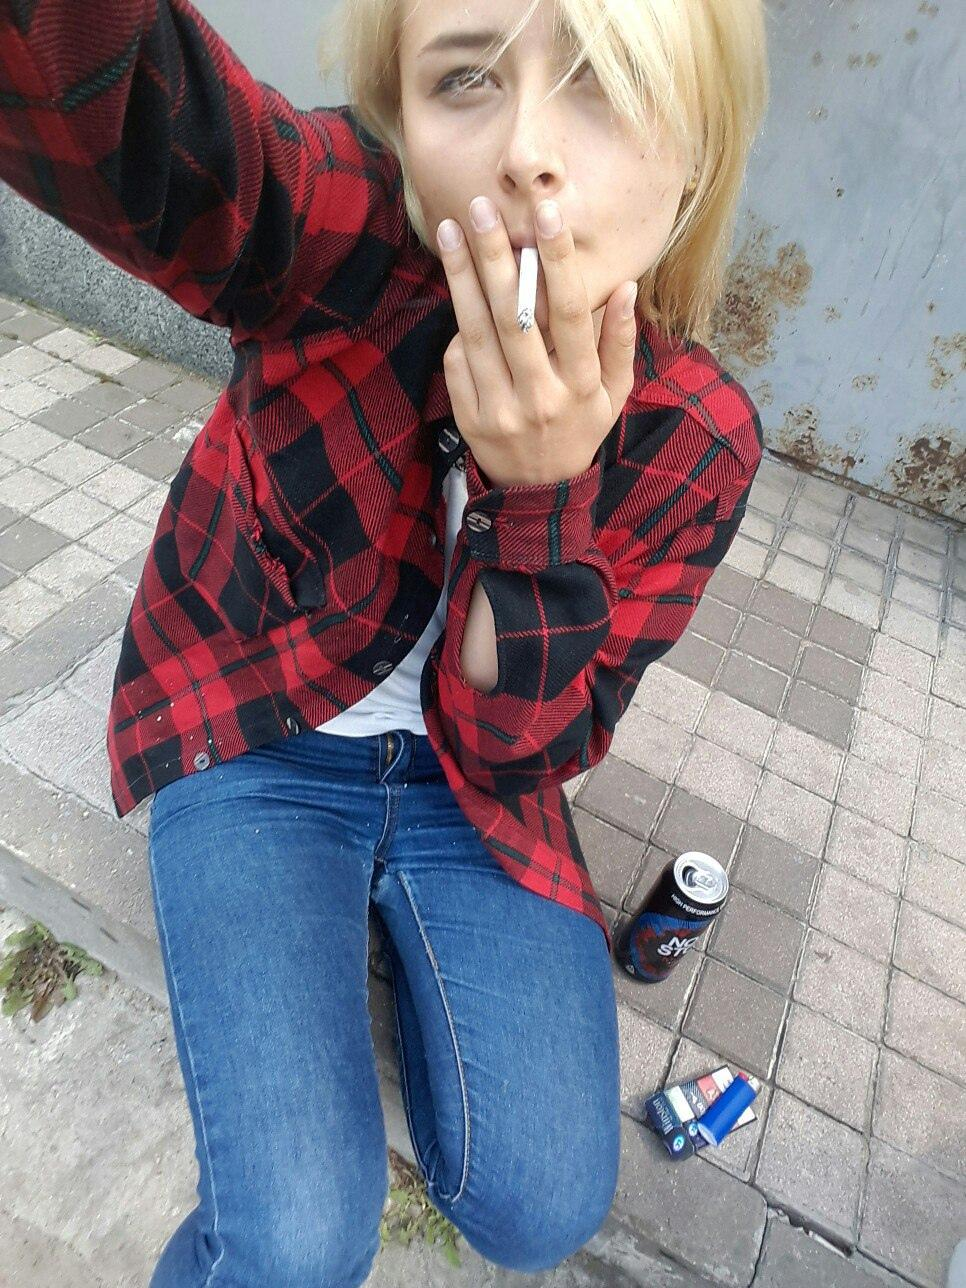cigarette: (517, 246, 539, 334)
